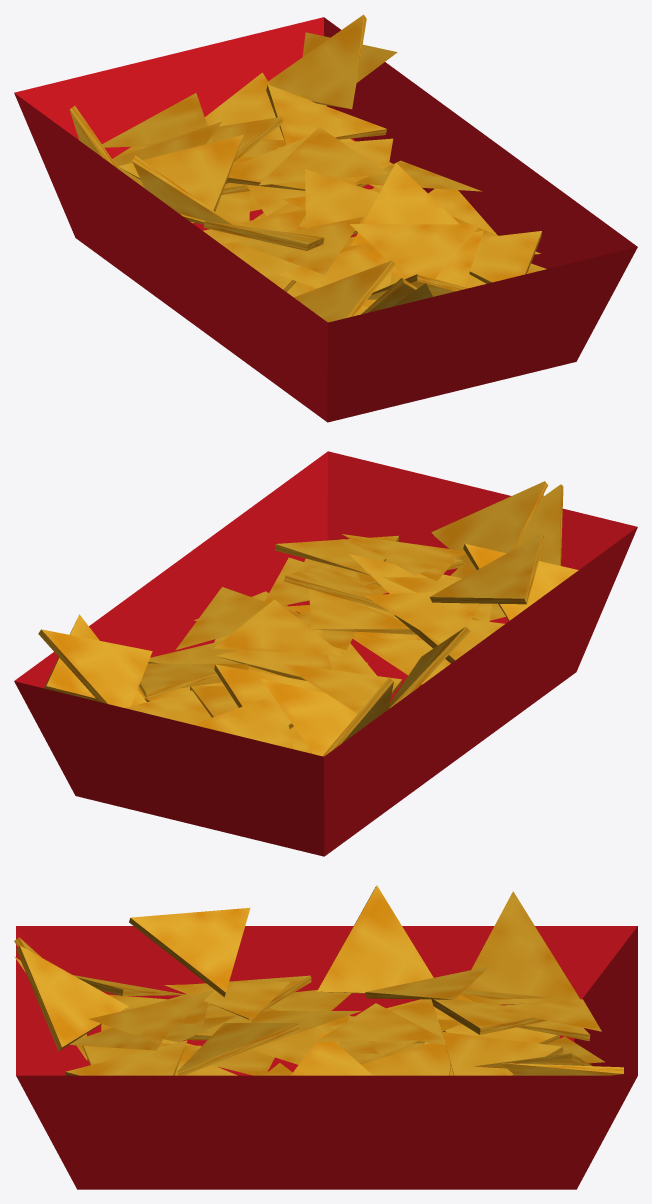
Rendered from nachos.obj.
The picture shows the model from 3 angles, top to bottom: view 1: azimuth 30°, elevation 25°; view 2: azimuth 150°, elevation 25°; view 3: azimuth 270°, elevation 25°; orthographic projection.
Visible parts, largest first — view 1: Cube_Mesh; view 2: Cube_Mesh; view 3: Cube_Mesh.
Part boxes in pixels (<box>): Cube_Mesh: <box>14,14,637,422</box>; Cube_Mesh: <box>14,451,637,856</box>; Cube_Mesh: <box>14,885,637,1189</box>.
Size of the model in its own units: 0.1823 by 0.0868 by 0.2981.
